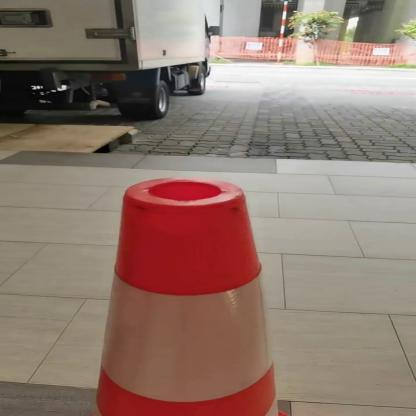cone: (45, 163, 311, 415)
